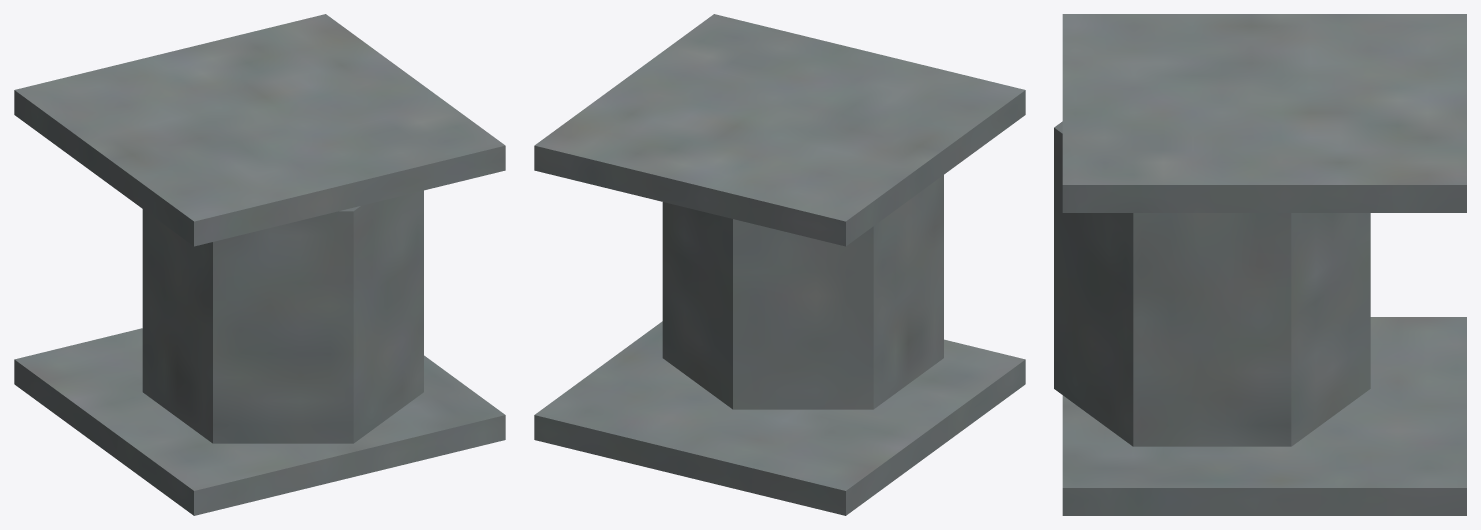
File: communication_clamp_1.glb
3 renders of one model, left to right at view 1: azimuth 30°, elevation 25°; view 2: azimuth 150°, elevation 25°; view 3: azimuth 270°, elevation 25°, orthographic. The views are drawn at different scales.
Parts seen in each view (by area): view 1: communication_clamp_1; view 2: communication_clamp_1; view 3: communication_clamp_1.
Part boxes in pixels (<box>): communication_clamp_1: <box>14,14,505,515</box>; communication_clamp_1: <box>534,14,1025,515</box>; communication_clamp_1: <box>1054,14,1466,515</box>.
Bounding box in the file's own units: 0.08 × 0.0723 × 0.0816.
Materials: 1 (1 with a texture image).
